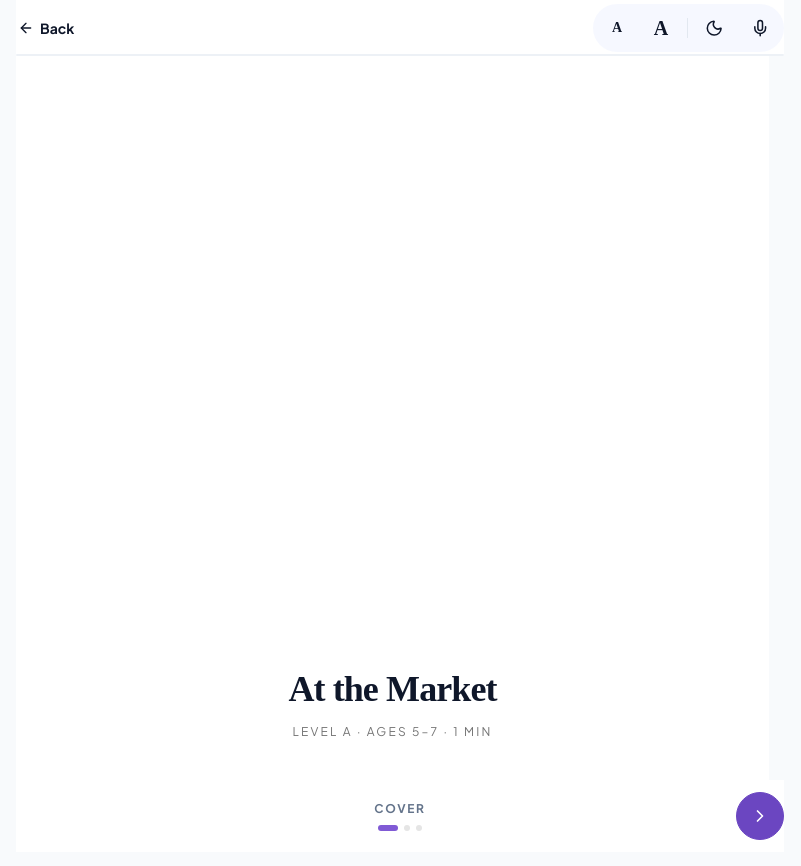
Test case: reading to my grown-ups › records across pages, plays it back, and sends it with the pages read
The image size is (801, 866).
Click the button named "Next page" at [760, 816], box x1=736 y1=792 x2=784 y2=840
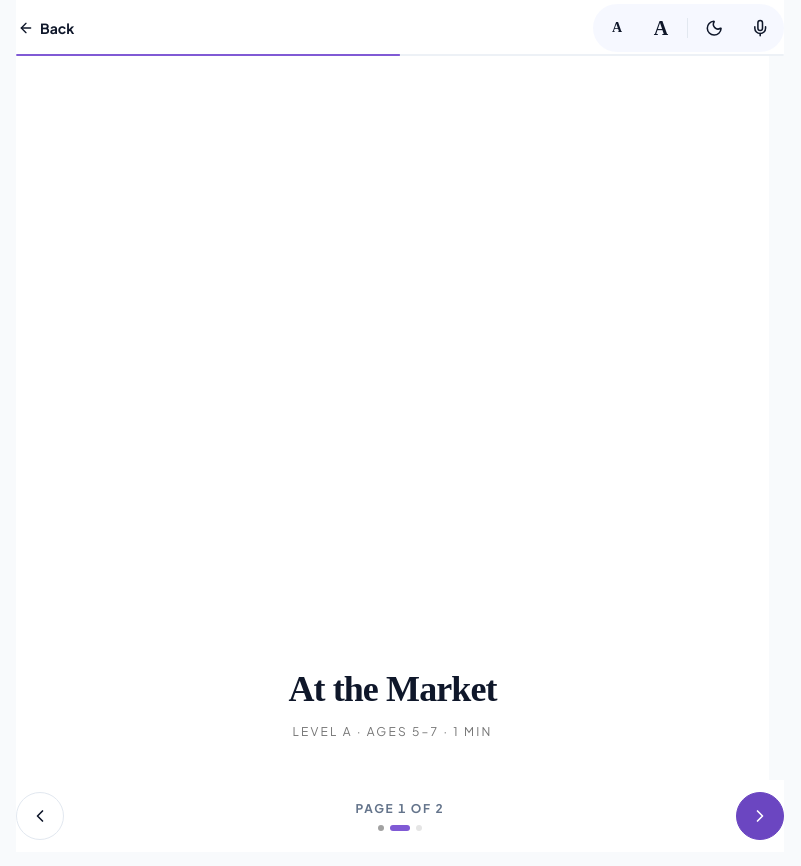
Click the button named "Record my reading for my grown-ups" at [760, 28], box x1=738 y1=6 x2=782 y2=50
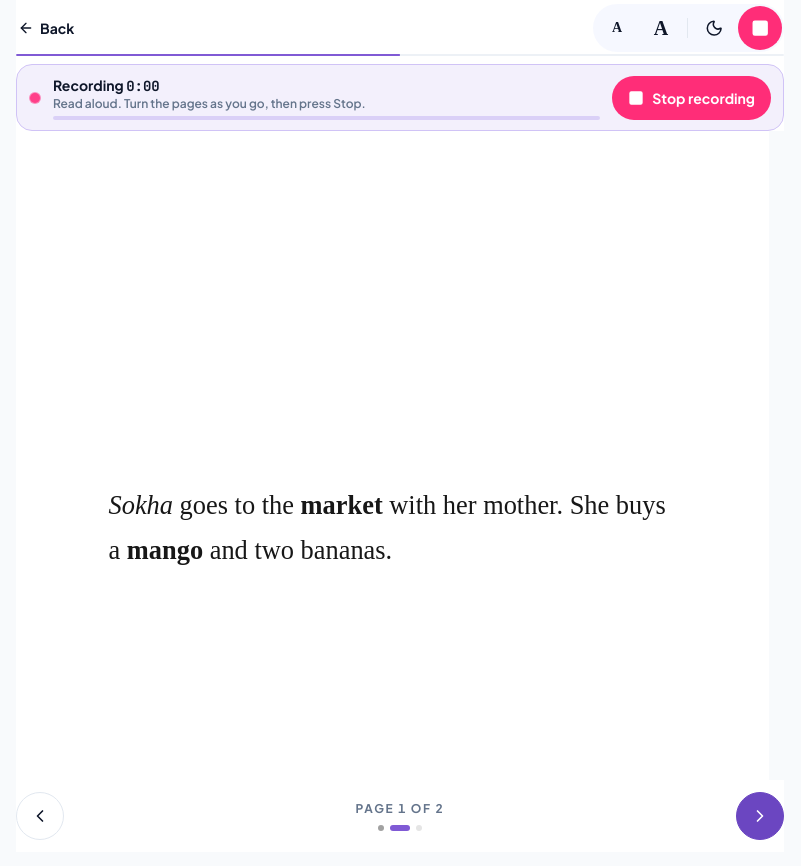
Result: the text "Recording" is shown at x1=53 y1=76 x2=124 y2=94
// Reading on to the next page while recording, then stopping from the toolbar.
Click the button named "Next page" at [760, 816], box x1=736 y1=792 x2=784 y2=840
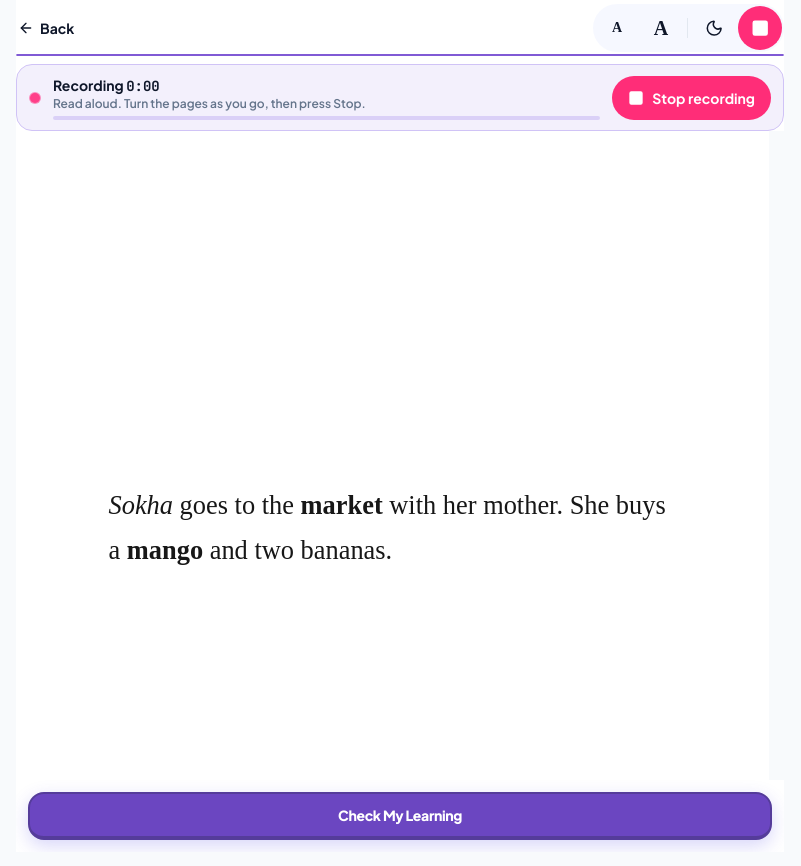
Click the button named "Stop recording" at [760, 28], box x1=738 y1=6 x2=782 y2=50
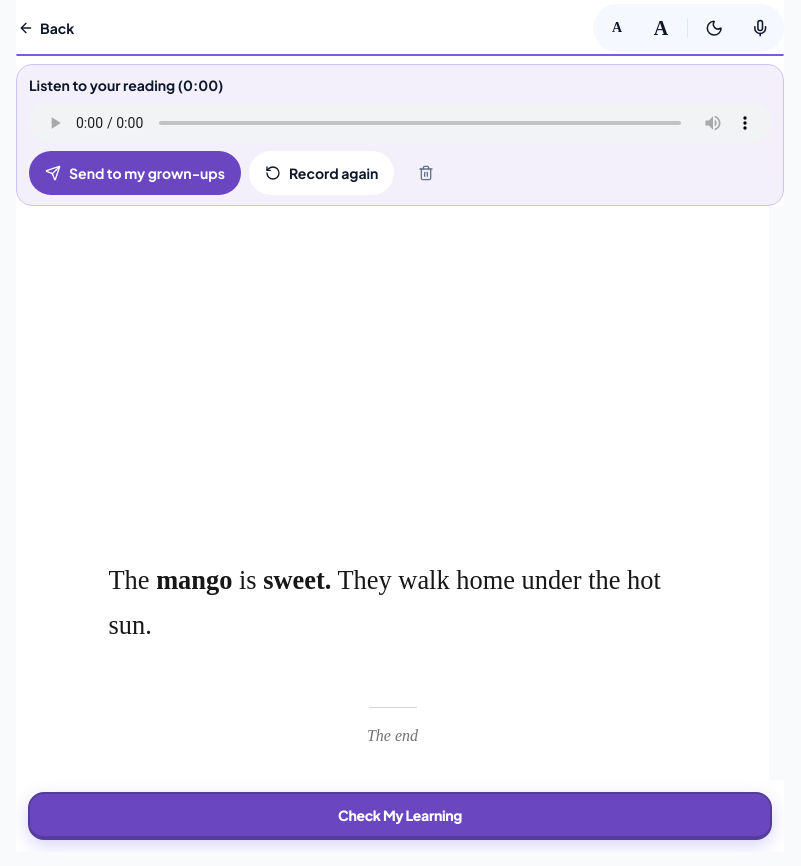
Click the button "Send to my grown-ups" at [135, 173], box x1=29 y1=151 x2=241 y2=195
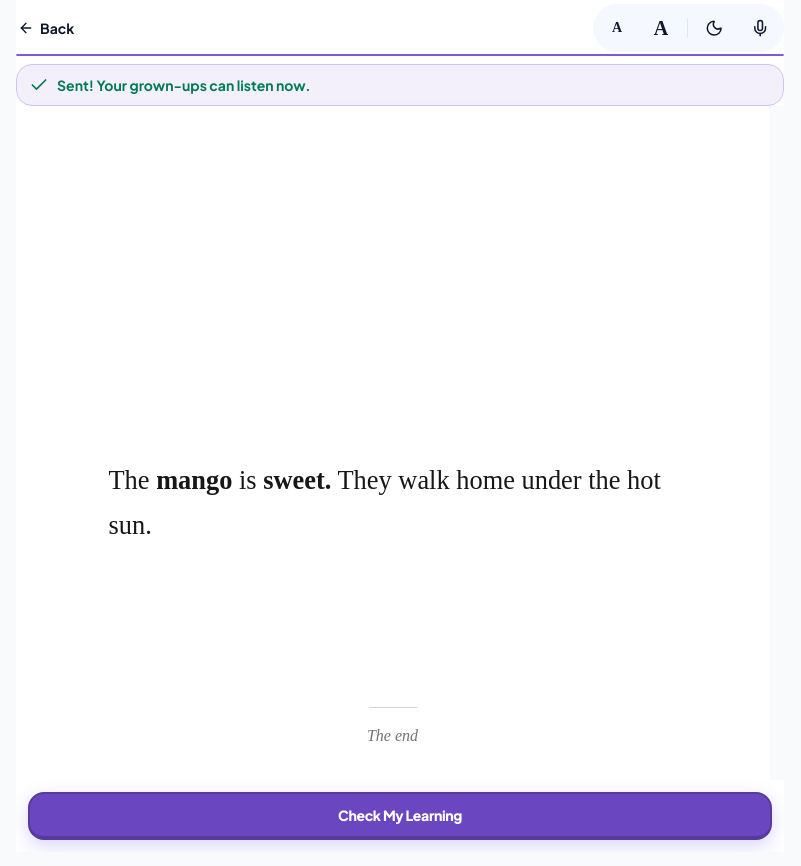
Result: the text "Sent! Your grown-ups can listen now." is shown at x1=29 y1=75 x2=310 y2=95
